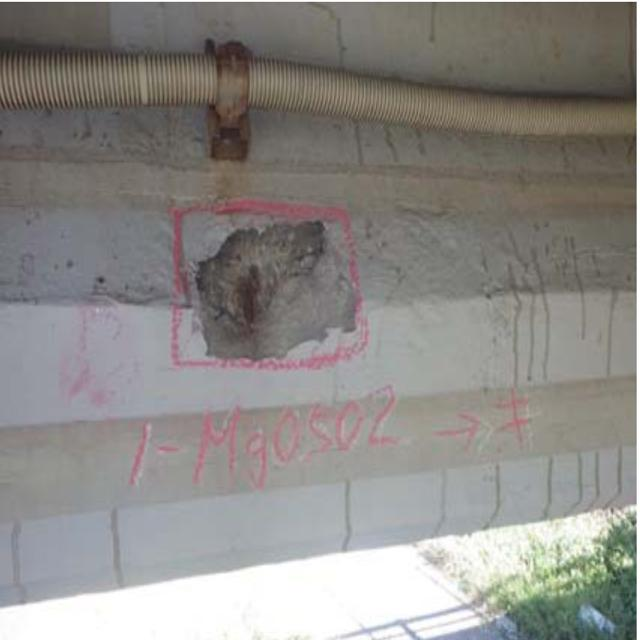spalling: (183, 203, 363, 368)
